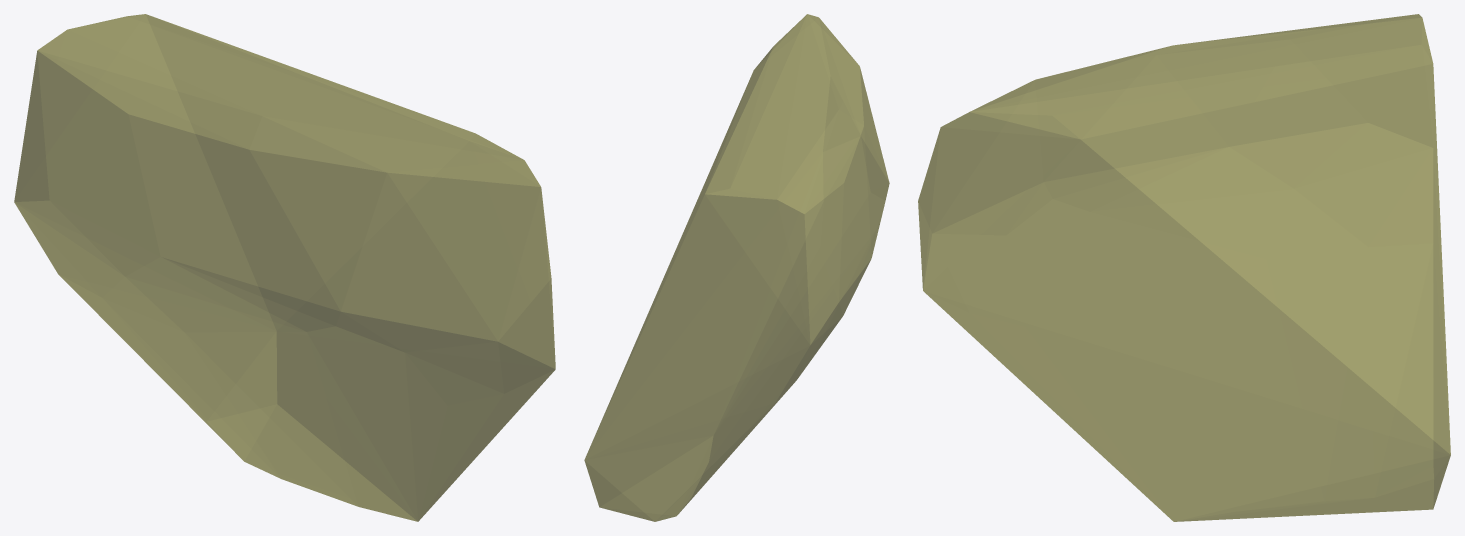
The picture shows the model from 3 angles, left to right: view 1: azimuth 30°, elevation 25°; view 2: azimuth 150°, elevation 25°; view 3: azimuth 270°, elevation 25°; orthographic projection. The views are drawn at different scales.
Visible parts, largest first — view 1: Shape_IndexedFaceSet.006_Shape_IndexedFaceSet.16776; view 2: Shape_IndexedFaceSet.006_Shape_IndexedFaceSet.16776; view 3: Shape_IndexedFaceSet.006_Shape_IndexedFaceSet.16776.
Part boxes in pixels (x1,y1,x2,y2): Shape_IndexedFaceSet.006_Shape_IndexedFaceSet.16776: (14, 14, 555, 521); Shape_IndexedFaceSet.006_Shape_IndexedFaceSet.16776: (584, 14, 889, 521); Shape_IndexedFaceSet.006_Shape_IndexedFaceSet.16776: (918, 14, 1450, 521).
Bounding box in the file's own units: 0.2326 × 0.3677 × 0.4306.
